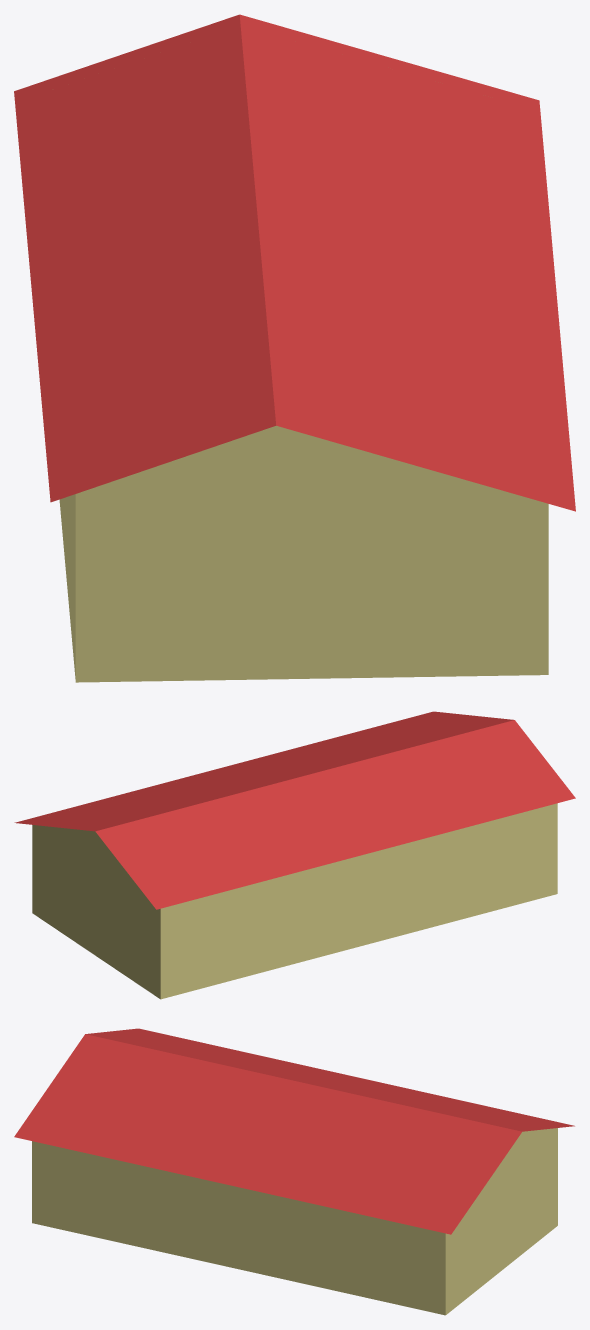
3 renders of one model, top to bottom at view 1: azimuth 30°, elevation 25°; view 2: azimuth 150°, elevation 25°; view 3: azimuth 270°, elevation 25°, orthographic. The views are drawn at different scales.
Size of the model in its own units: 35.07 by 42.19 by 11.14.
